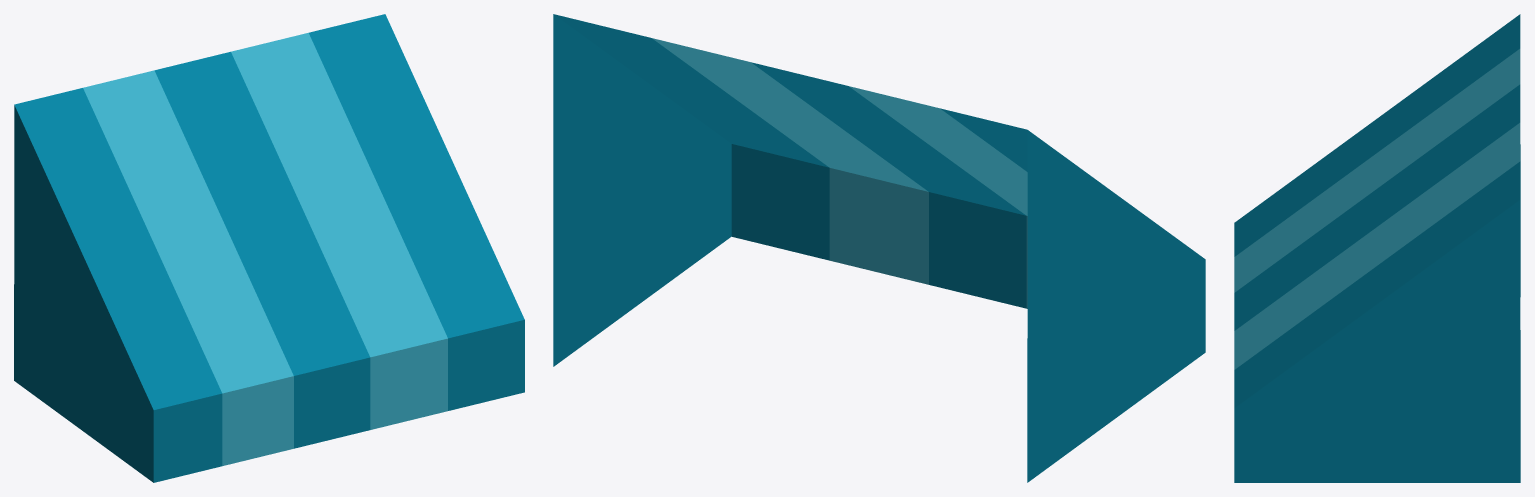
File: shop_blind.fbx
3 renders of one model, left to right at view 1: azimuth 30°, elevation 25°; view 2: azimuth 150°, elevation 25°; view 3: azimuth 270°, elevation 25°, orthographic. The views are drawn at different scales.
Visible parts, largest first — view 1: Box032; view 2: Box032; view 3: Box032.
Boxes of the visible parts, box(x1,y1,x2,y2) form: Box032: box(14, 14, 524, 482); Box032: box(553, 14, 1205, 482); Box032: box(1234, 14, 1520, 482).
Bounding box in the file's own units: 159 × 113 × 104.
1 material, 1 textured.
